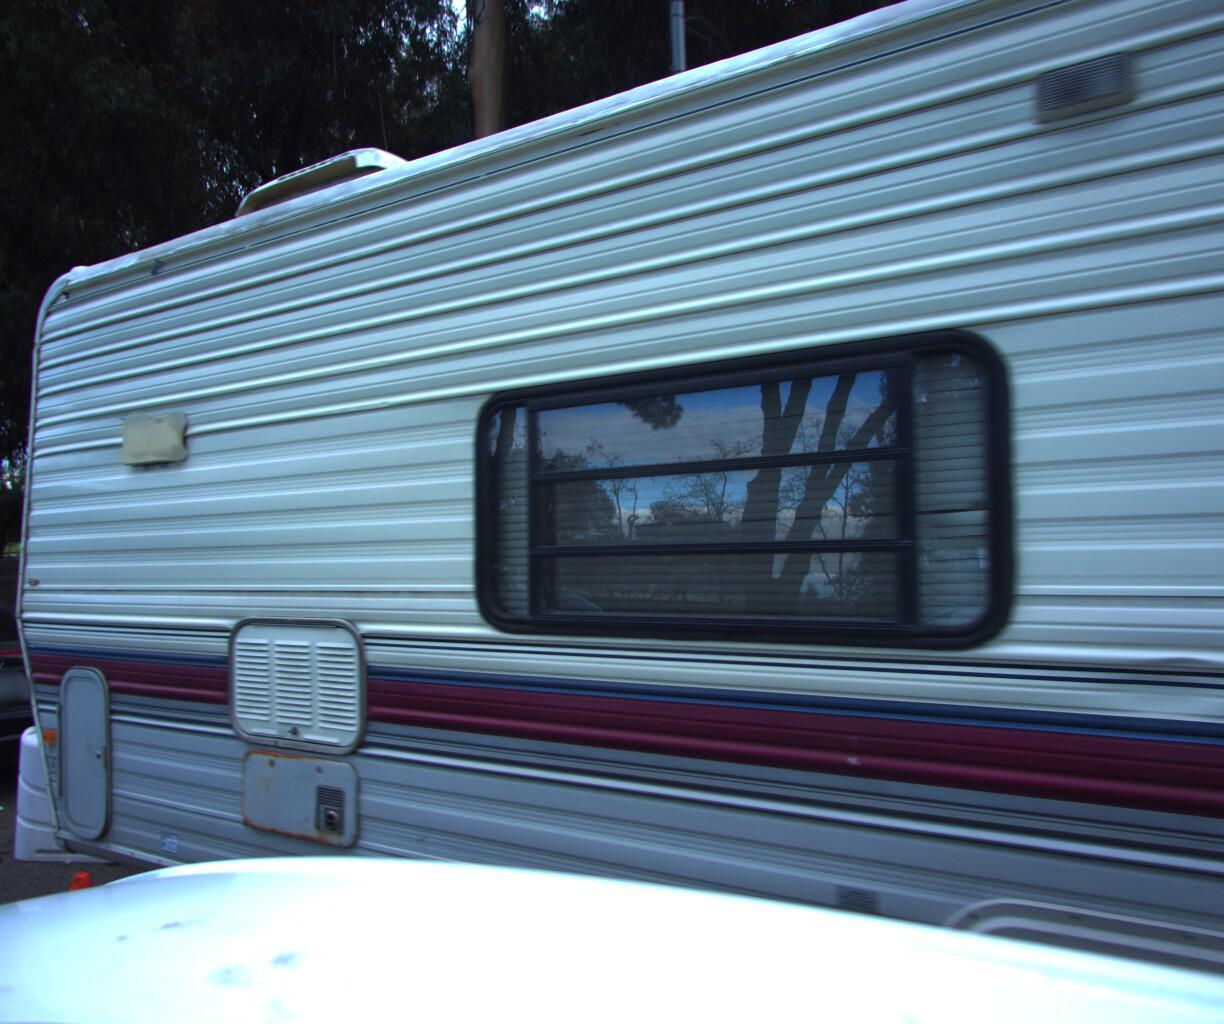car: (0, 579, 142, 874)
